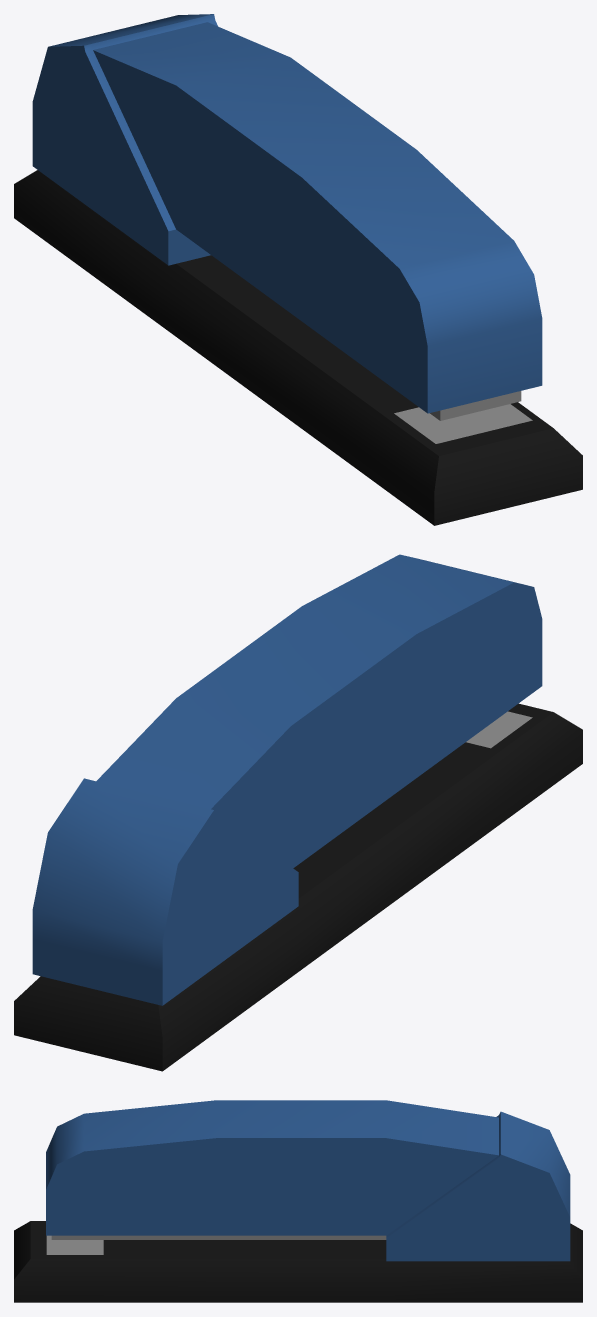
File: Stapler.fbx
The picture shows the model from 3 angles, top to bottom: view 1: azimuth 30°, elevation 25°; view 2: azimuth 150°, elevation 25°; view 3: azimuth 270°, elevation 25°; orthographic projection. The views are drawn at different scales.
Parts seen in each view (by area): view 1: Stapler; view 2: Stapler; view 3: Stapler.
Boxes of the visible parts, left/top/right/bottom form: Stapler: left=14, top=14, right=582, bottom=525; Stapler: left=14, top=554, right=582, bottom=1071; Stapler: left=14, top=1100, right=582, bottom=1302.
Size of the model in its own units: 4.68 by 7.06 by 22.91.
